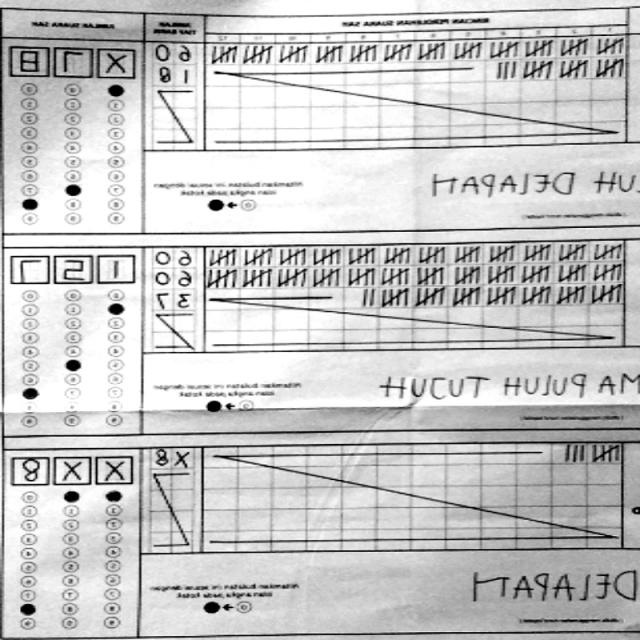Suara: (8, 249, 142, 286), (7, 42, 140, 78), (10, 454, 138, 487)
